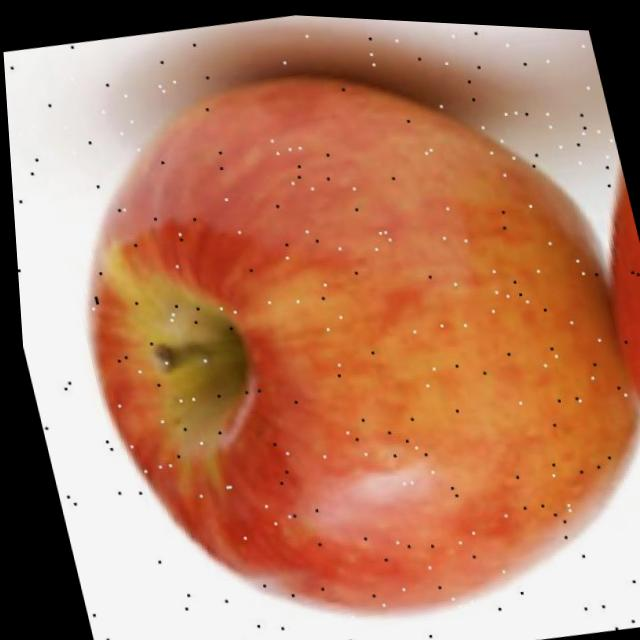Apple: (24, 13, 640, 640), (574, 157, 640, 469)
